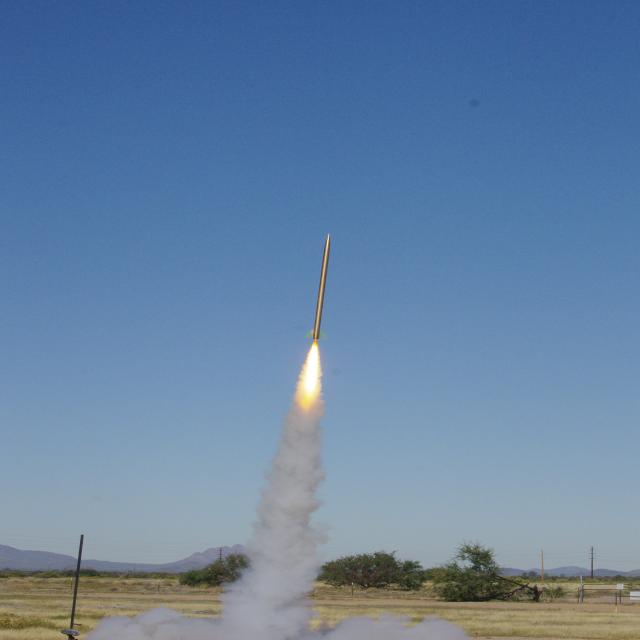Rocket: (304, 232, 333, 341)
